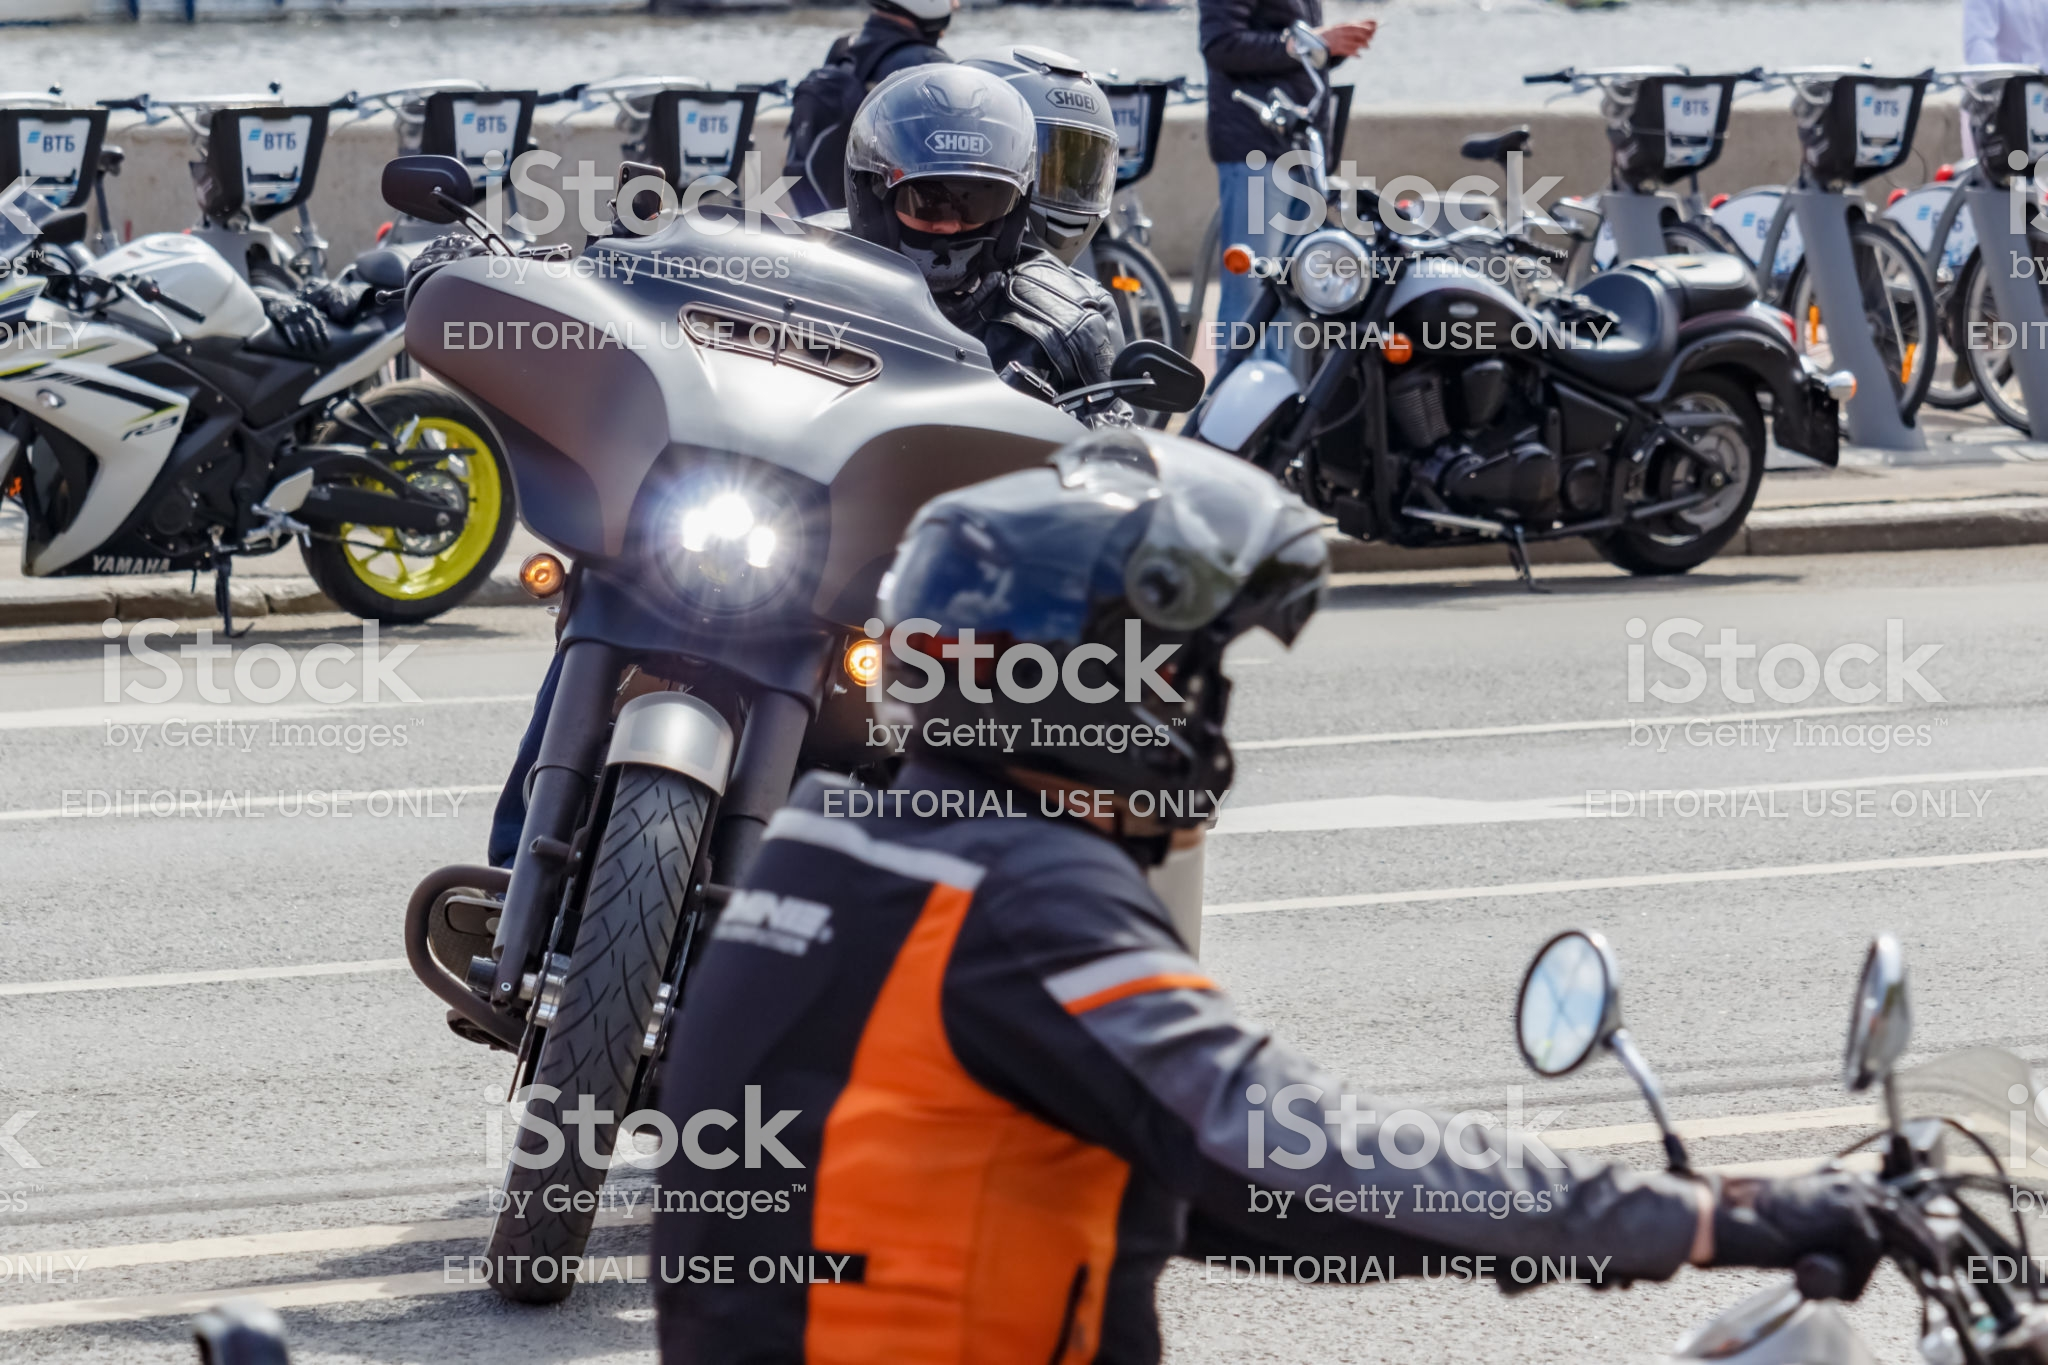helmet: (909, 456, 1316, 849), (847, 79, 1057, 279)
